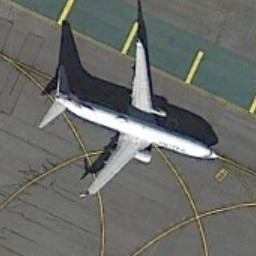Airplane: (34, 33, 227, 205)
